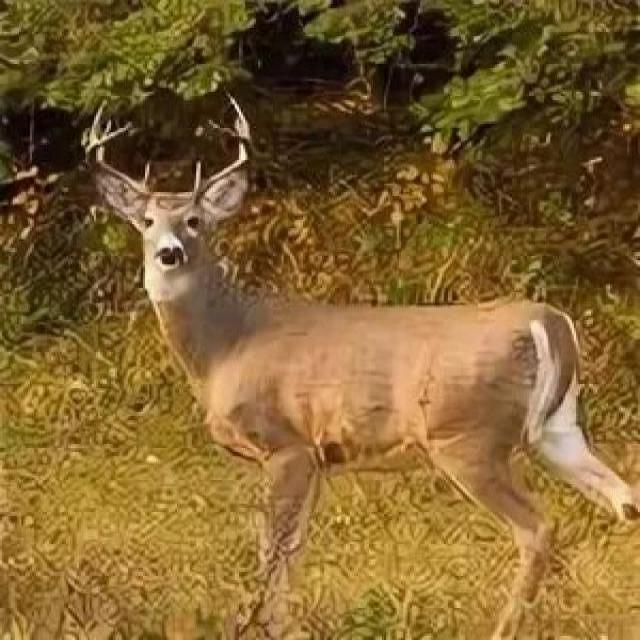deer: (107, 182, 600, 542)
